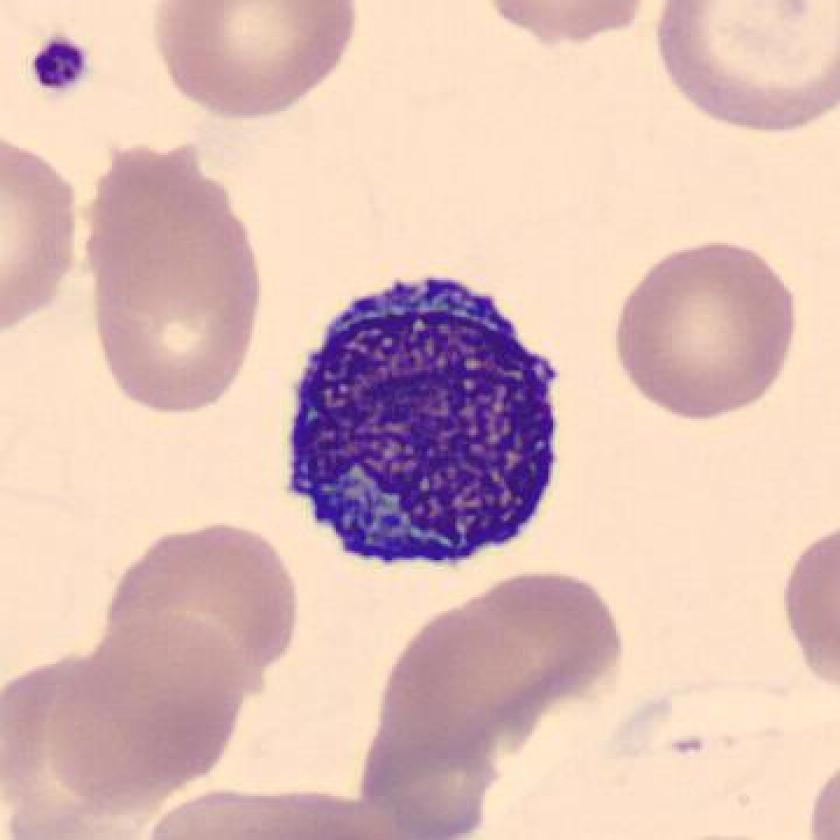monocyte: (269, 258, 582, 586)
